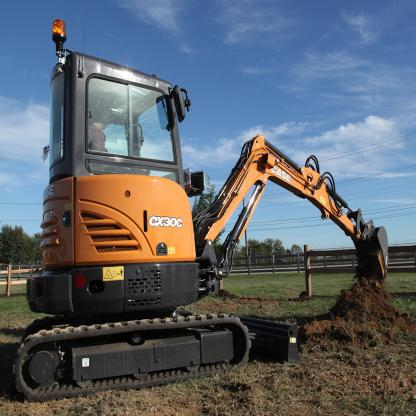excavator: (12, 19, 392, 382)
